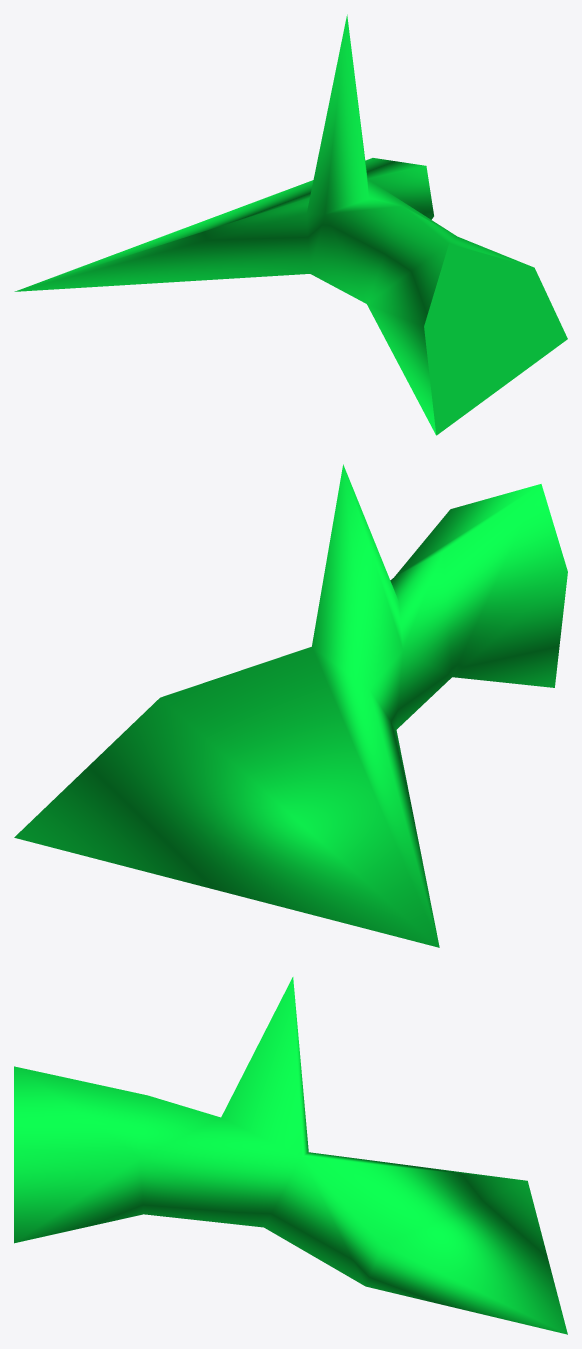
The model's file is Plant02_d_col.FBX.
3 views of the same model, one above another, from view 1: azimuth 30°, elevation 25°; view 2: azimuth 150°, elevation 25°; view 3: azimuth 270°, elevation 25° (orthographic). The views are drawn at different scales.
Visible parts, largest first — view 1: Plant02_d_col; view 2: Plant02_d_col; view 3: Plant02_d_col.
Boxes of the visible parts, bbox=[...] form: Plant02_d_col: bbox=[14, 14, 567, 435]; Plant02_d_col: bbox=[14, 464, 567, 947]; Plant02_d_col: bbox=[14, 977, 567, 1334].
Size of the model in its own units: 501 by 397 by 654.
